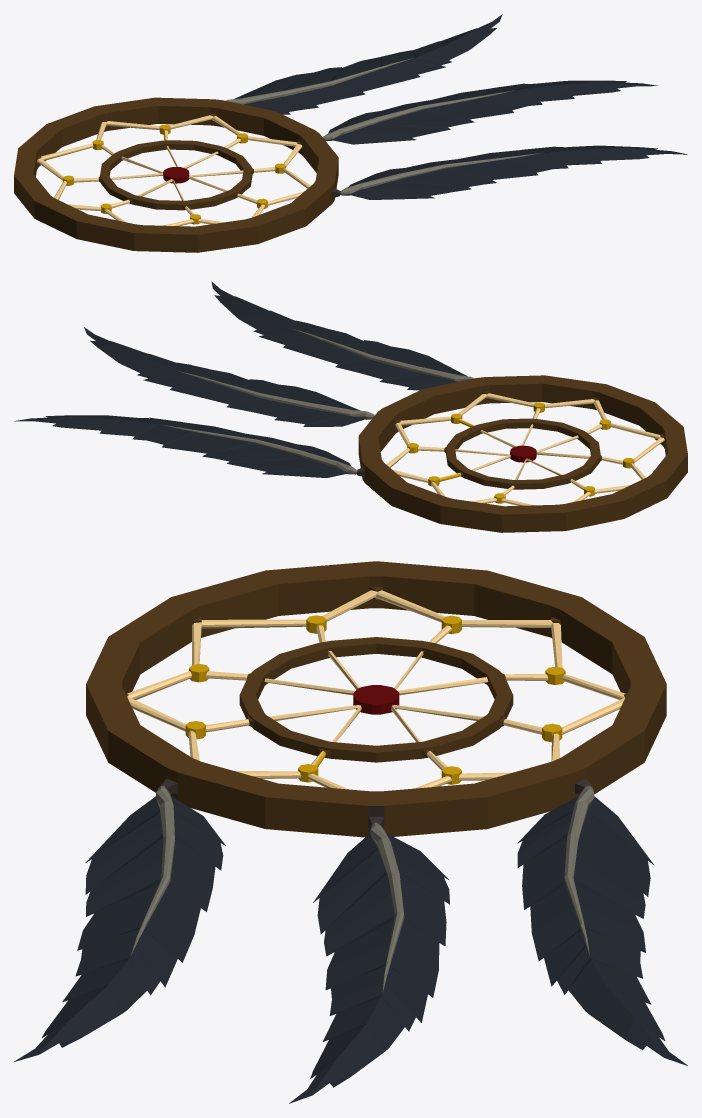
File: attrape reve.fbx
3 views of the same model, one above another, from view 1: azimuth 30°, elevation 25°; view 2: azimuth 150°, elevation 25°; view 3: azimuth 270°, elevation 25° (orthographic). The views are drawn at different scales.
Visible parts, largest first — view 1: Circle; view 2: Circle; view 3: Circle.
Part boxes in pixels (x1,y1,x2,y2): Circle: (14,14,687,252); Circle: (14,281,687,532); Circle: (14,561,687,1103).
Size of the model in its own units: 42.45 by 1.22 by 23.31.
